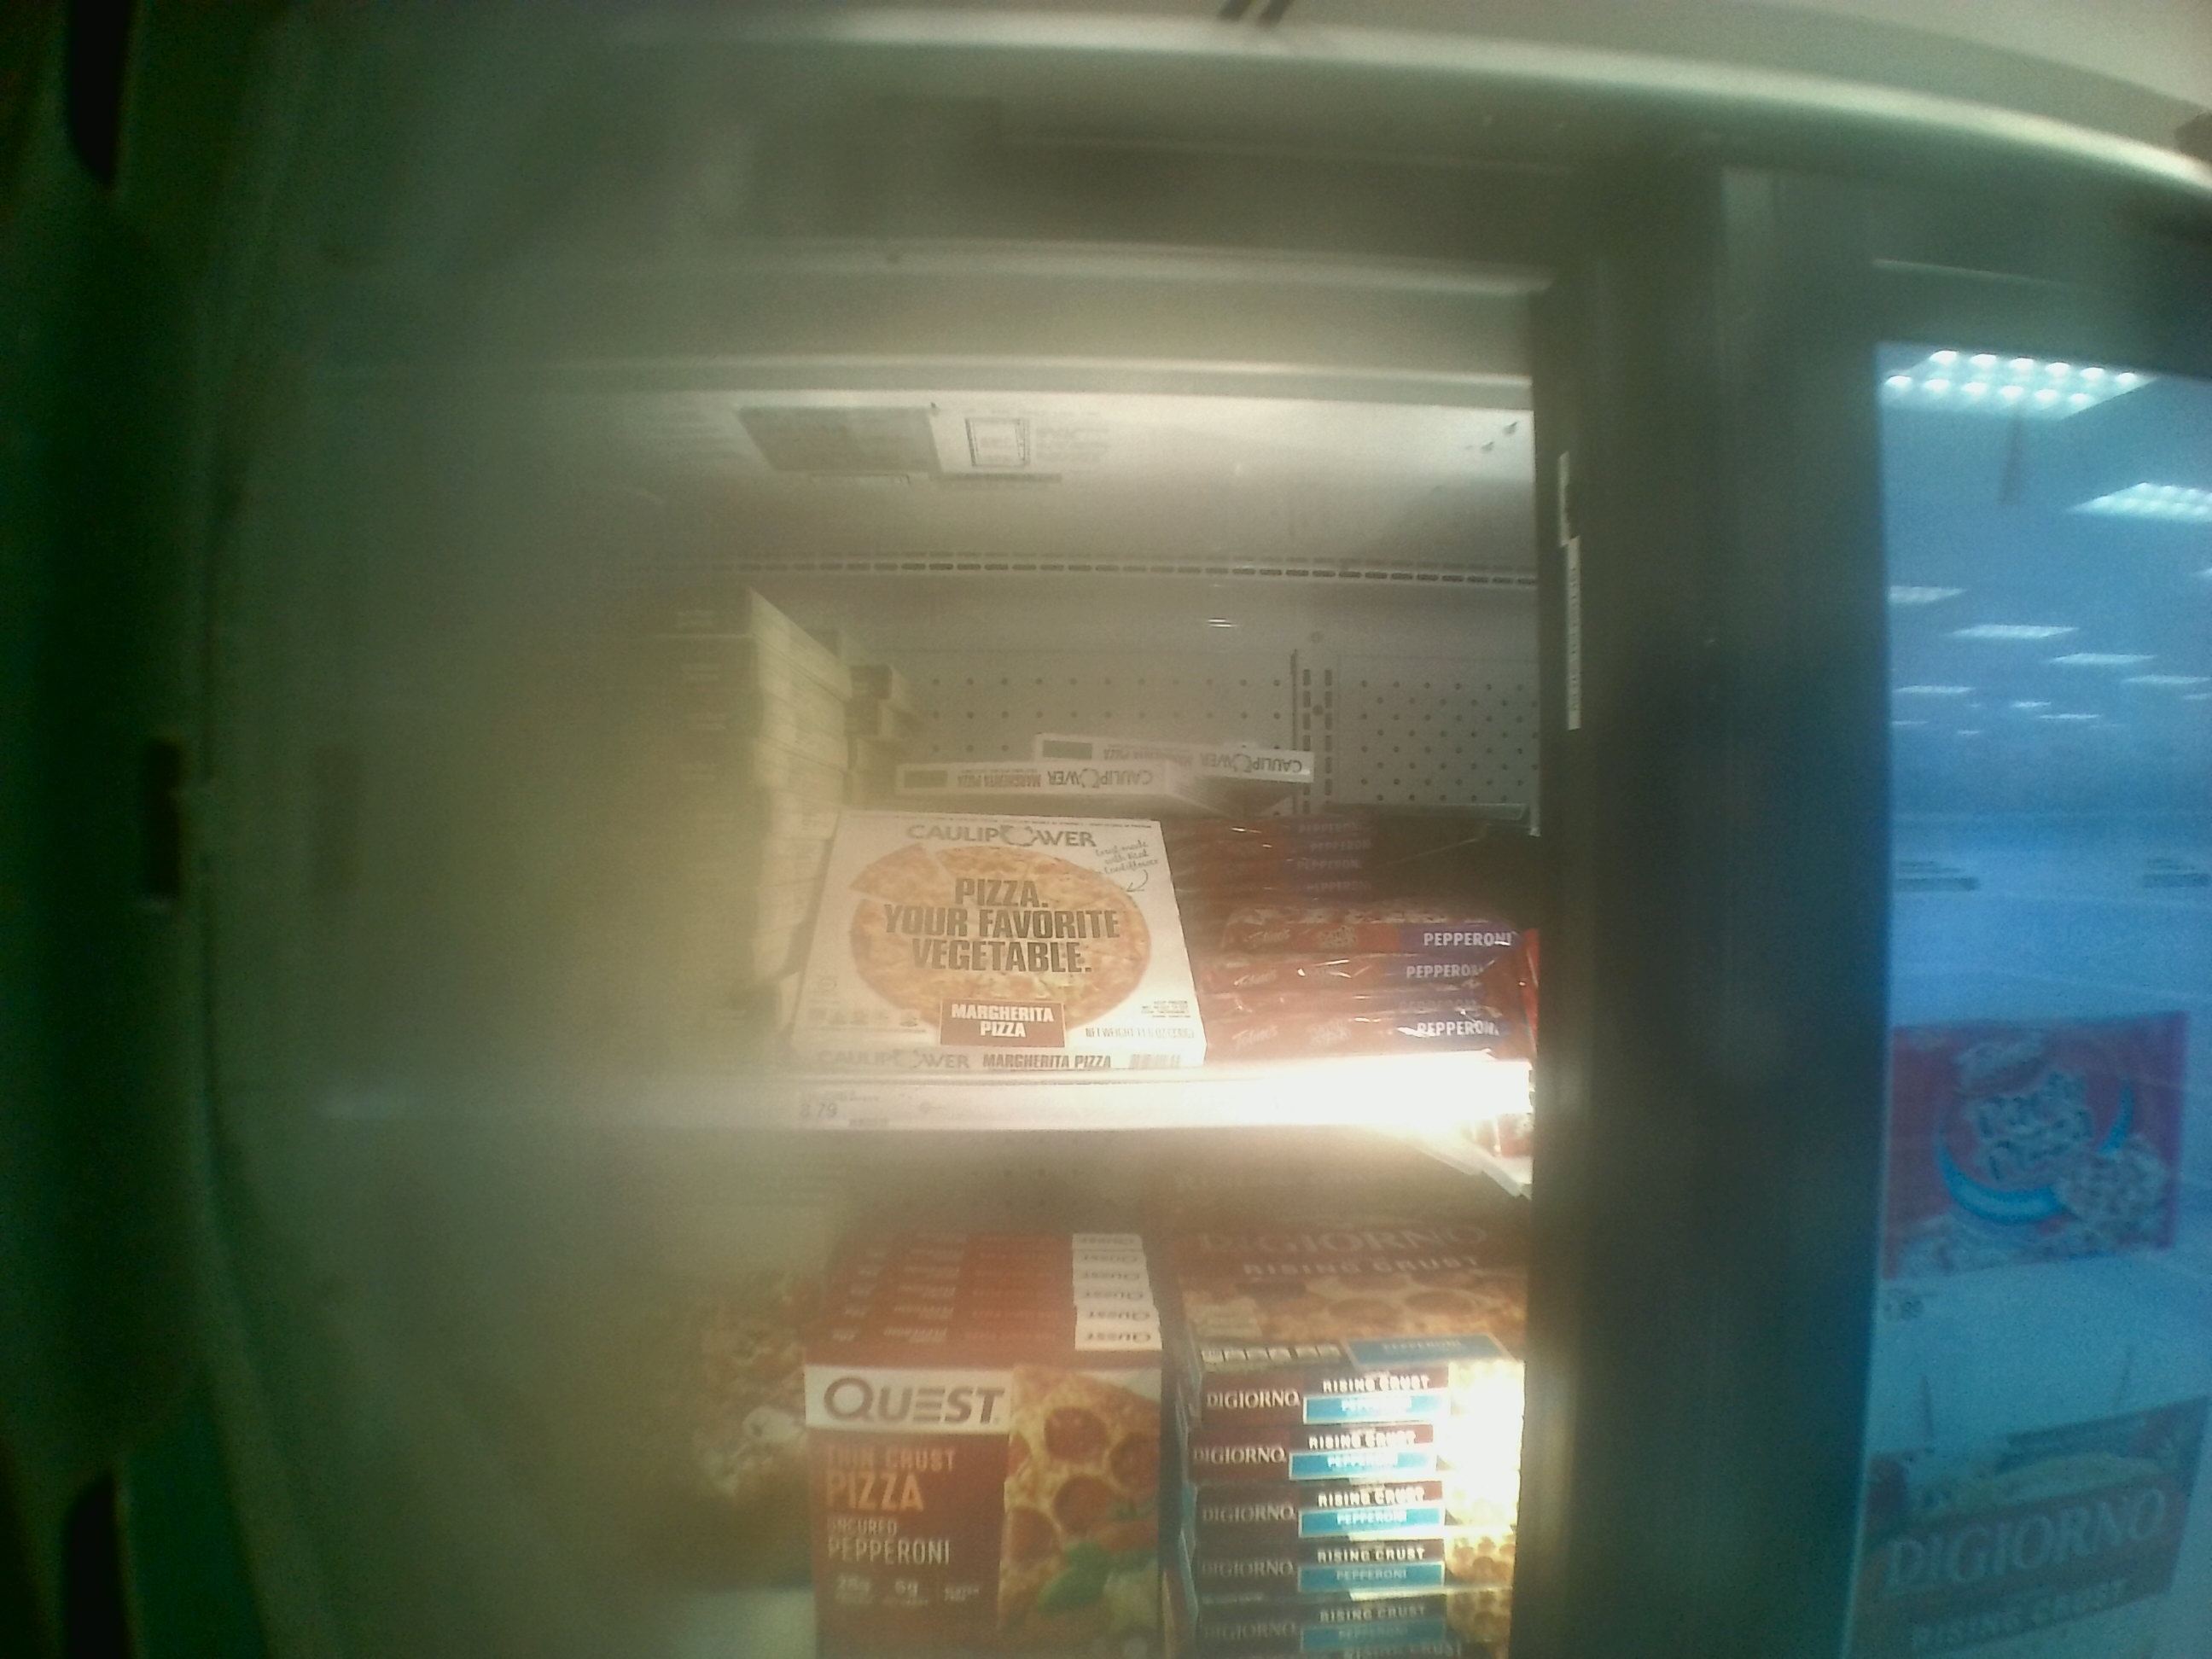shelf: (287, 460, 1521, 1134)
